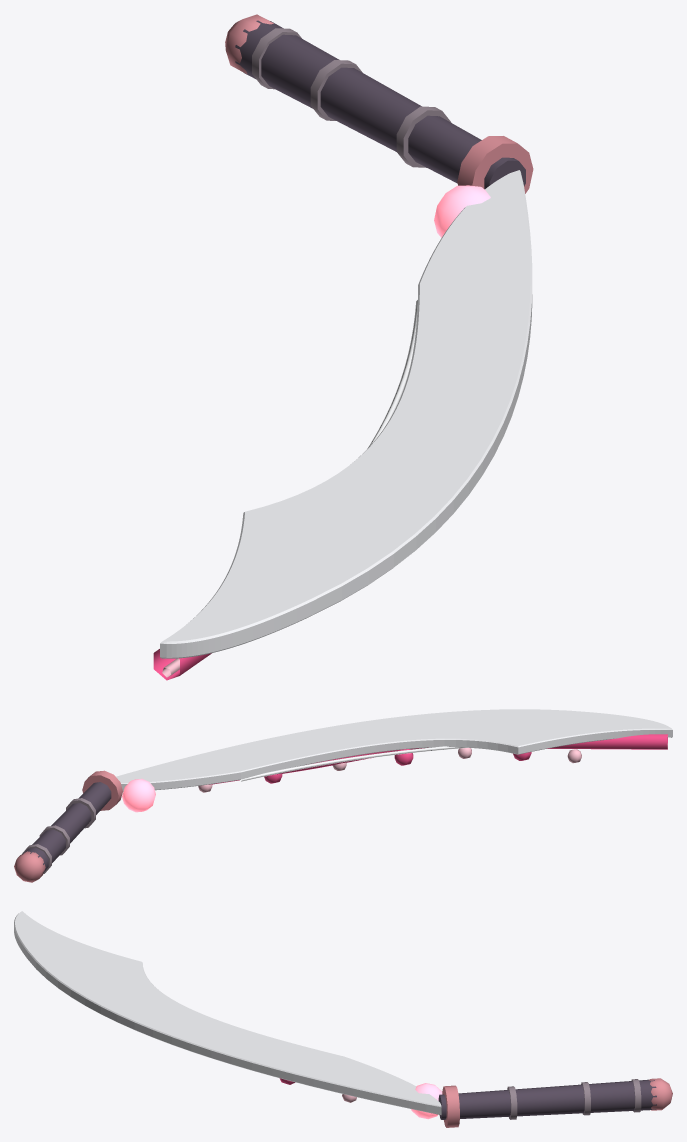
Rendered from veyr_left.glb.
3 views of the same model, one above another, from view 1: azimuth 30°, elevation 25°; view 2: azimuth 150°, elevation 25°; view 3: azimuth 270°, elevation 25° (orthographic). The views are drawn at different scales.
Visible parts, largest first — view 1: veyr_left; view 2: veyr_left; view 3: veyr_left.
Part boxes in pixels (<box>): veyr_left: <box>153,14,533,680</box>; veyr_left: <box>14,709,672,882</box>; veyr_left: <box>14,911,672,1127</box>.
Bounding box in the file's own units: 0.7022 × 0.075 × 0.9734.
